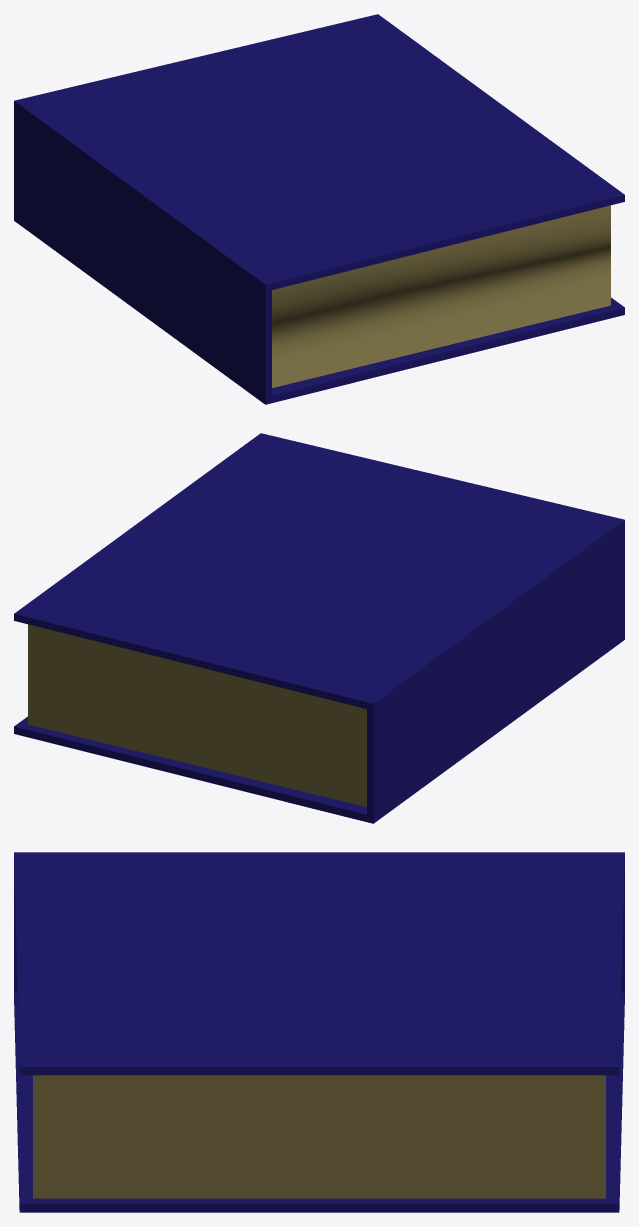
Rendered from Blue Spellbook.fbx.
3 renders of one model, top to bottom at view 1: azimuth 30°, elevation 25°; view 2: azimuth 150°, elevation 25°; view 3: azimuth 270°, elevation 25°, orthographic. The views are drawn at different scales.
Parts seen in each view (by area): view 1: Cube; view 2: Cube; view 3: Cube.
Part boxes in pixels (x1=…): Cube: x1=14, y1=14, x2=624, y2=404; Cube: x1=14, y1=433, x2=624, y2=823; Cube: x1=14, y1=852, x2=624, y2=1212.
Bounding box in the file's own units: 438 × 139 × 527.
